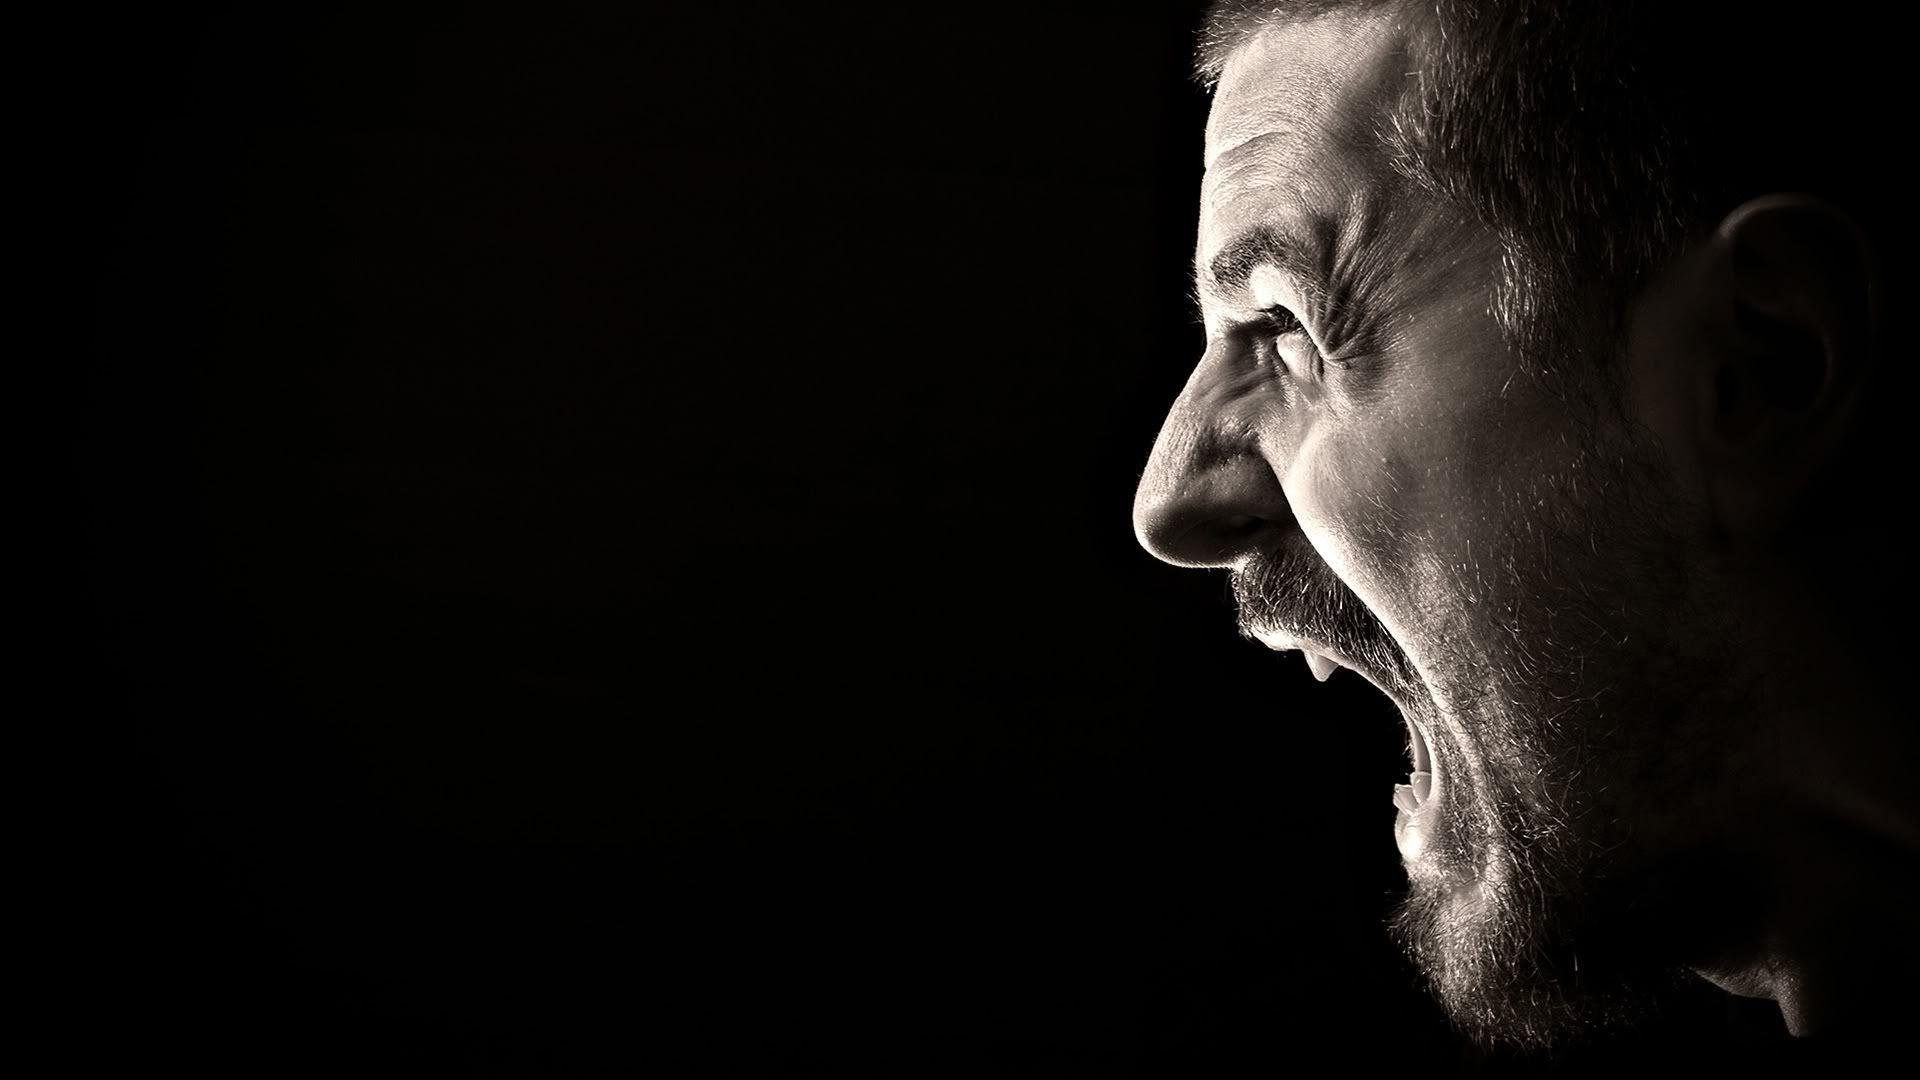noMask: (1073, 16, 1850, 1021)
